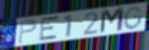1: (63, 14, 73, 39)
2: (82, 11, 100, 37)
E: (38, 15, 60, 43)
G: (124, 5, 144, 31)
M: (98, 6, 126, 35)
P: (18, 19, 39, 45)
